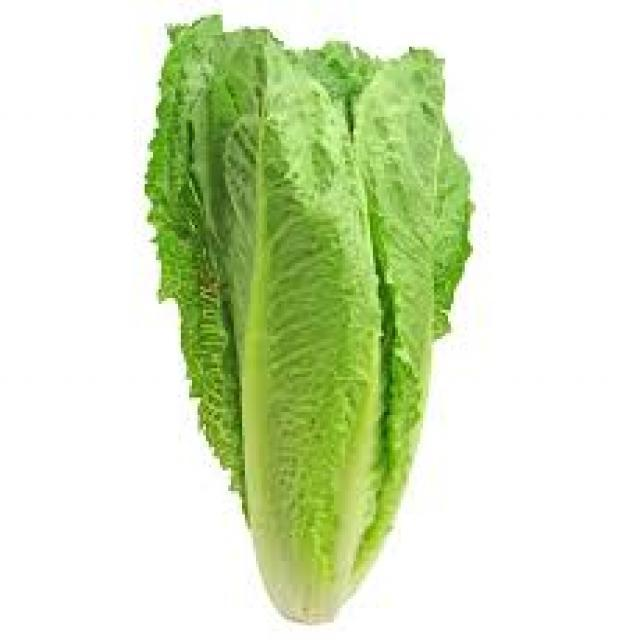Lettuce: (143, 9, 476, 626)
